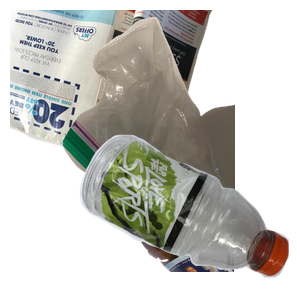glass: (60, 120, 300, 300)
paper: (10, 10, 215, 186)
plastic: (77, 132, 300, 300)
trash: (60, 14, 300, 194)
